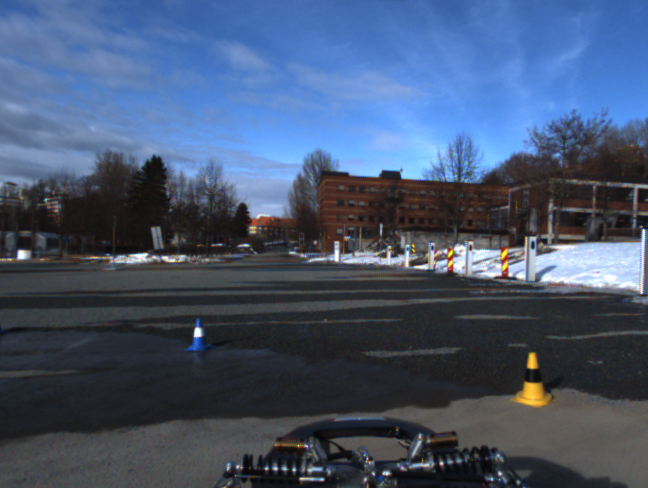cone-small-blue: (184, 318, 215, 352)
cone-small-yellow: (509, 351, 559, 407)
